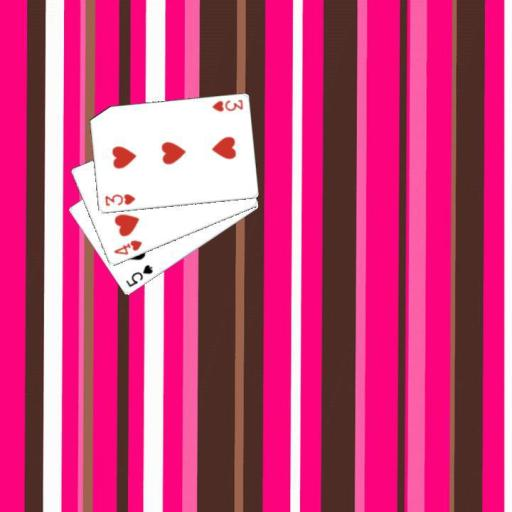3H: (102, 191, 137, 208), (209, 97, 244, 114)
4H: (110, 237, 143, 257)
5S: (123, 262, 155, 289)
